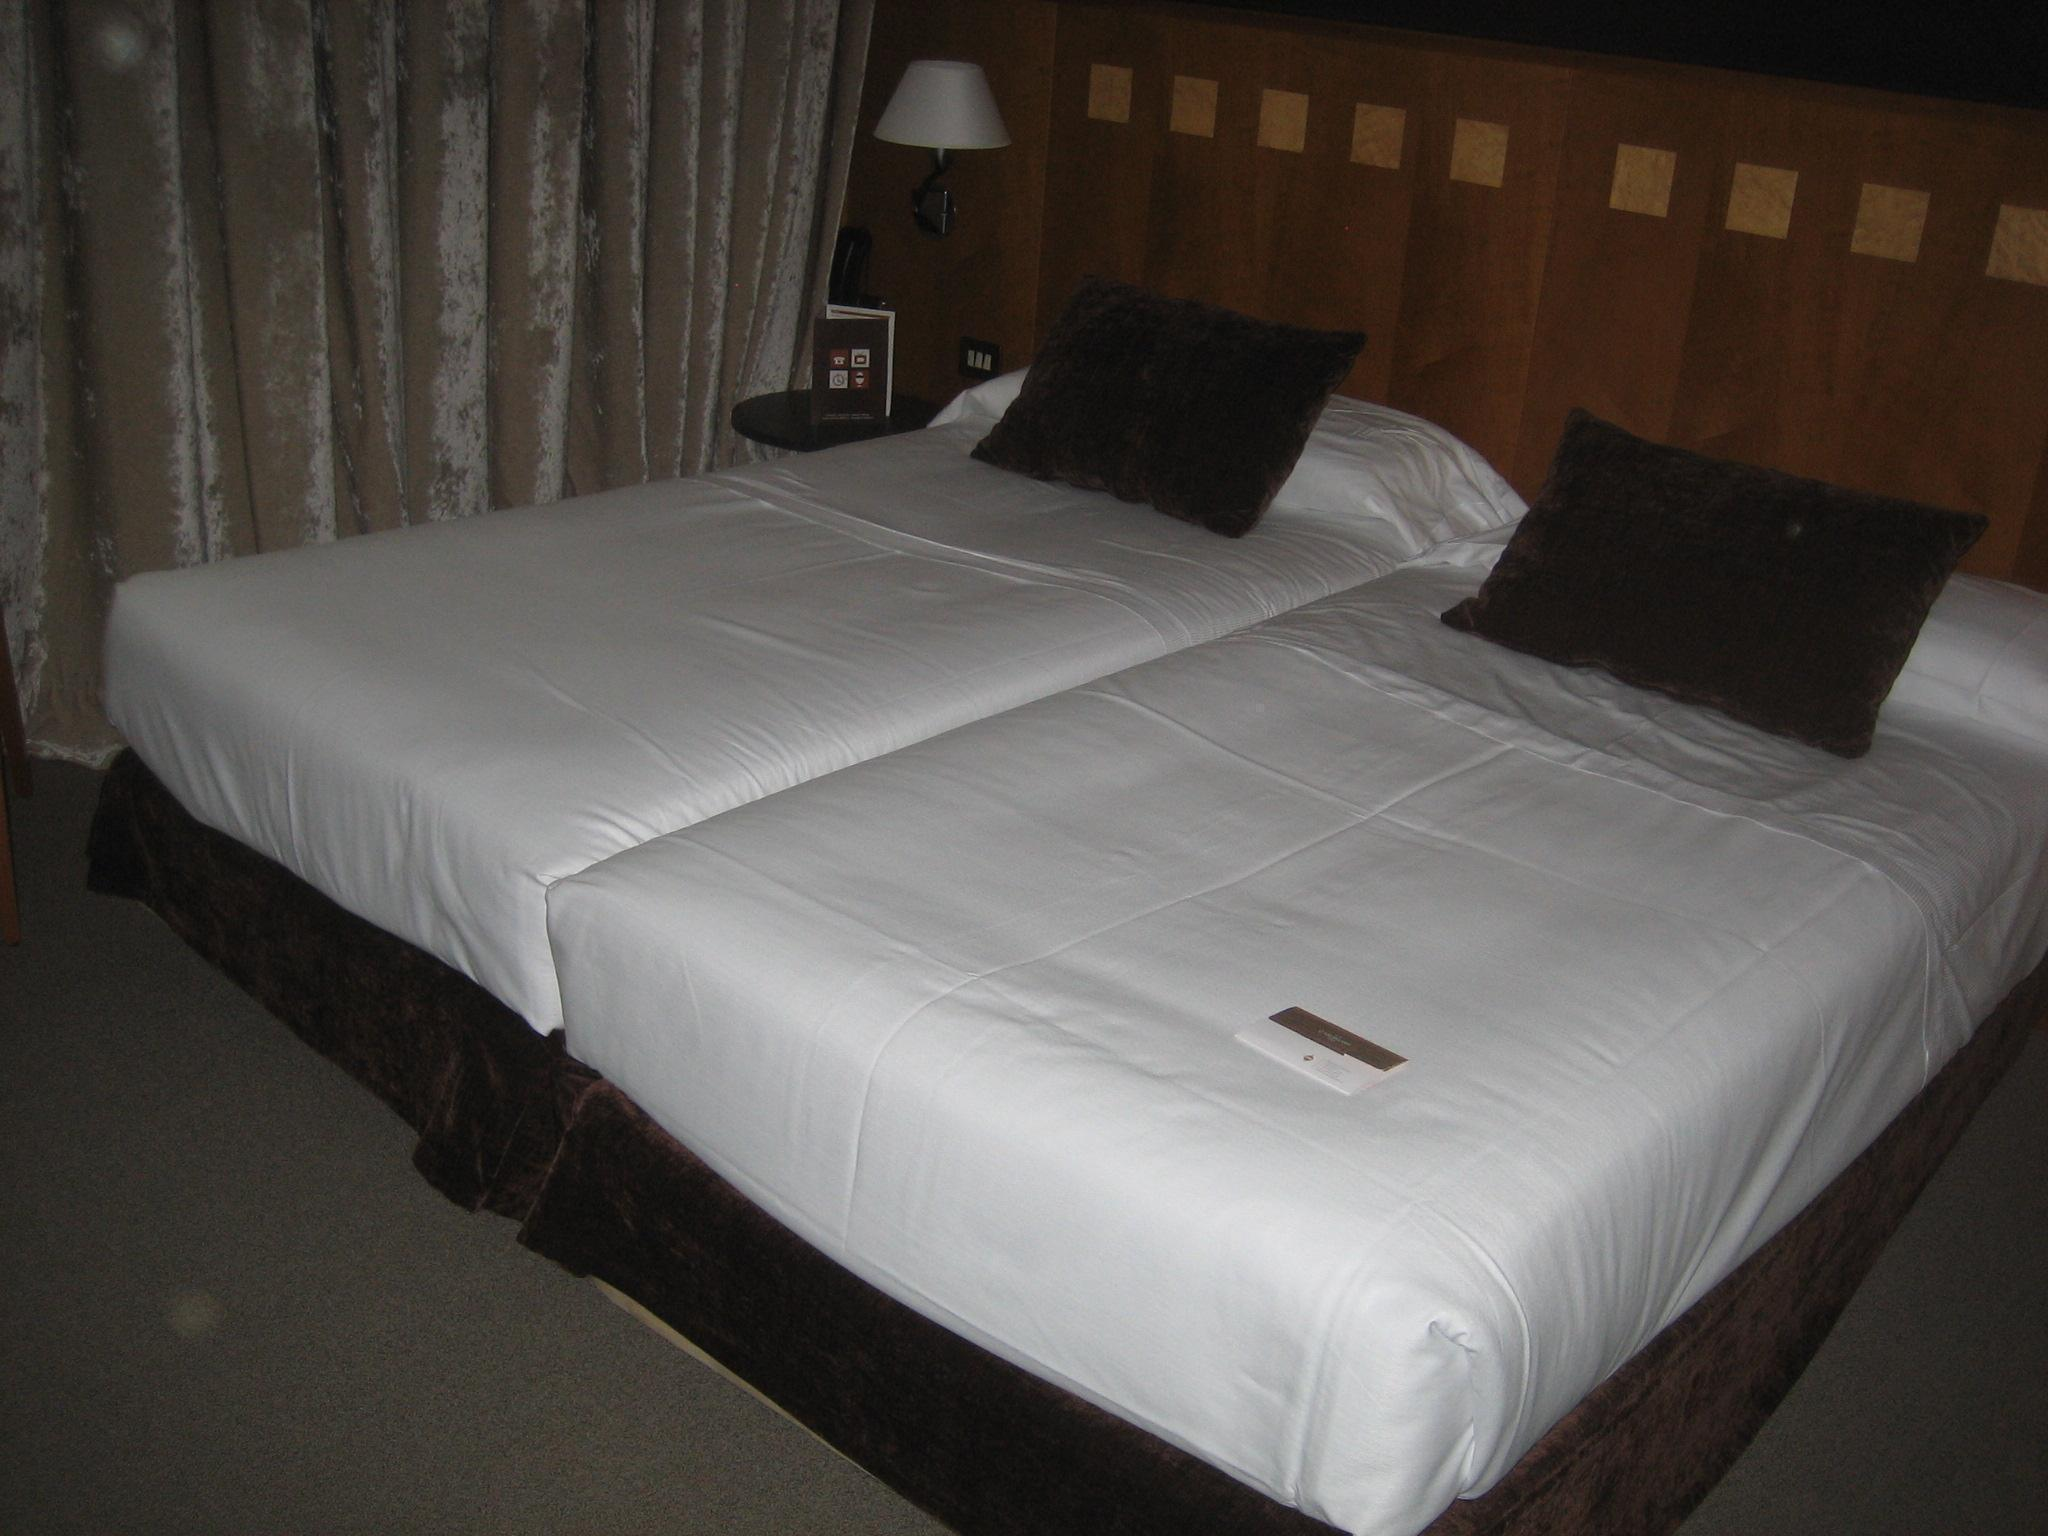Cama: (547, 490, 2042, 1371), (84, 323, 1534, 897)
